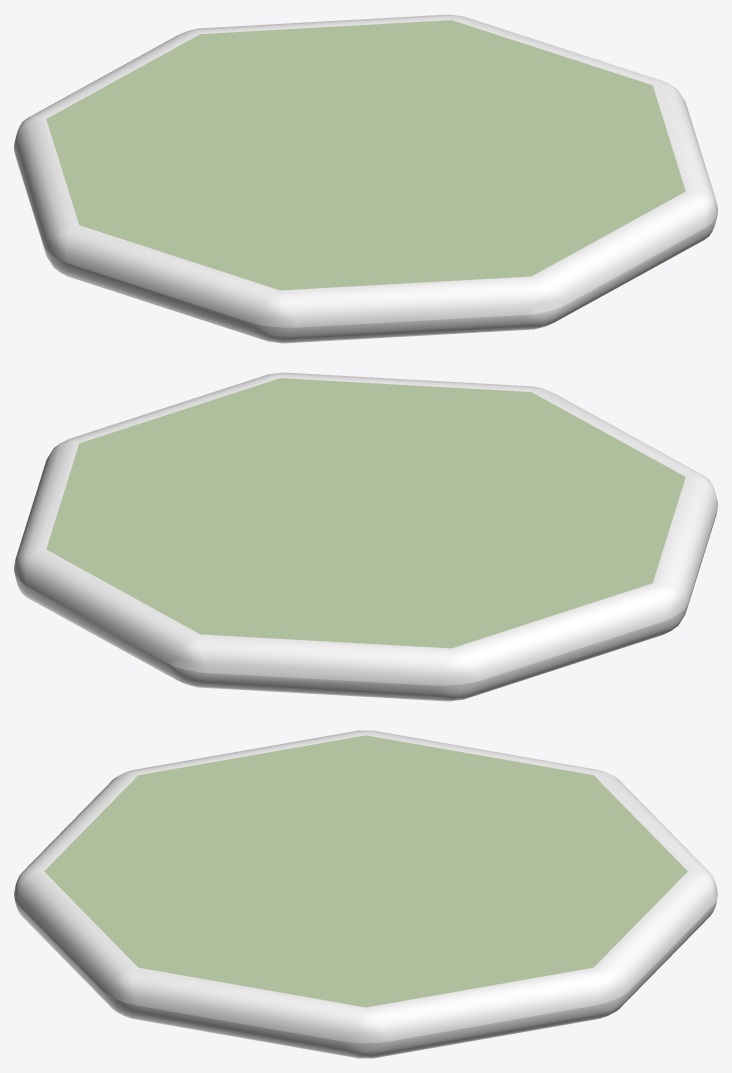
The model's file is gride.fbx.
The picture shows the model from 3 angles, top to bottom: view 1: azimuth 30°, elevation 25°; view 2: azimuth 150°, elevation 25°; view 3: azimuth 270°, elevation 25°; orthographic projection. The views are drawn at different scales.
Parts seen in each view (by area): view 1: Circle; view 2: Circle; view 3: Circle.
Boxes of the visible parts, bbox=[...] form: Circle: bbox=[14, 14, 717, 343]; Circle: bbox=[14, 372, 717, 701]; Circle: bbox=[14, 730, 717, 1058].
Bounding box in the file's own units: 1047 × 75.71 × 1047.
